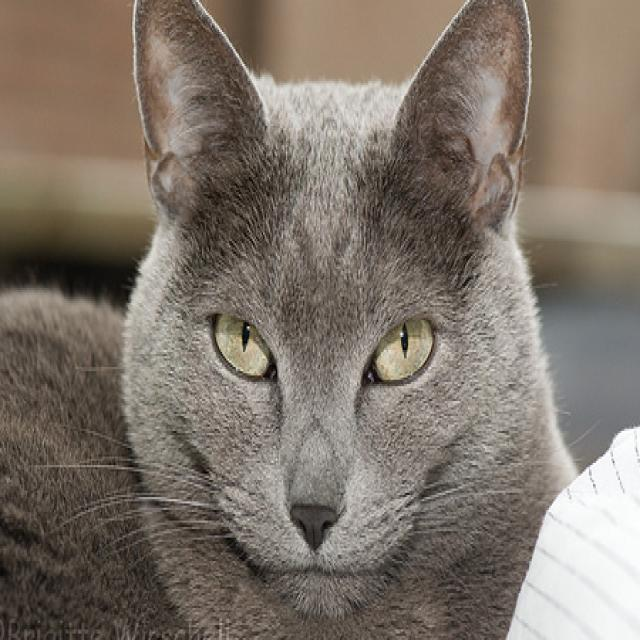Russian Blue: (0, 0, 579, 640)
